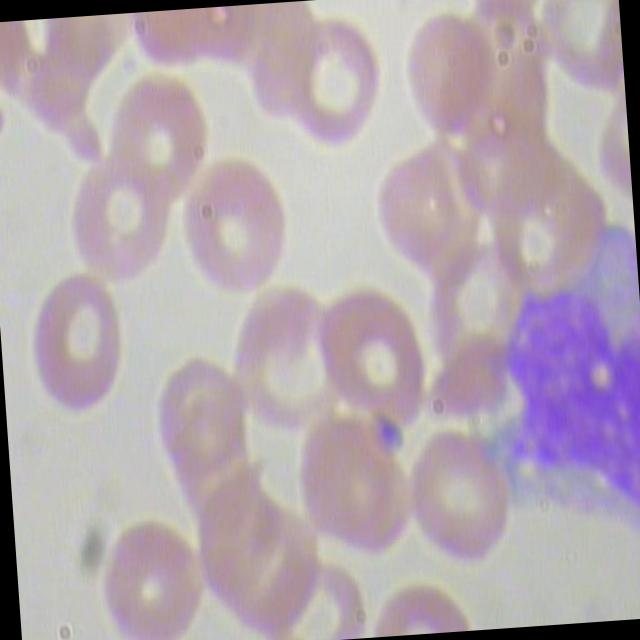RBC: (314, 289, 438, 443), (176, 148, 299, 302), (23, 267, 138, 426), (407, 428, 522, 576), (276, 9, 390, 158), (392, 3, 506, 152), (67, 152, 180, 292), (91, 514, 215, 640), (105, 74, 218, 212)
WBC: (459, 213, 640, 550)
